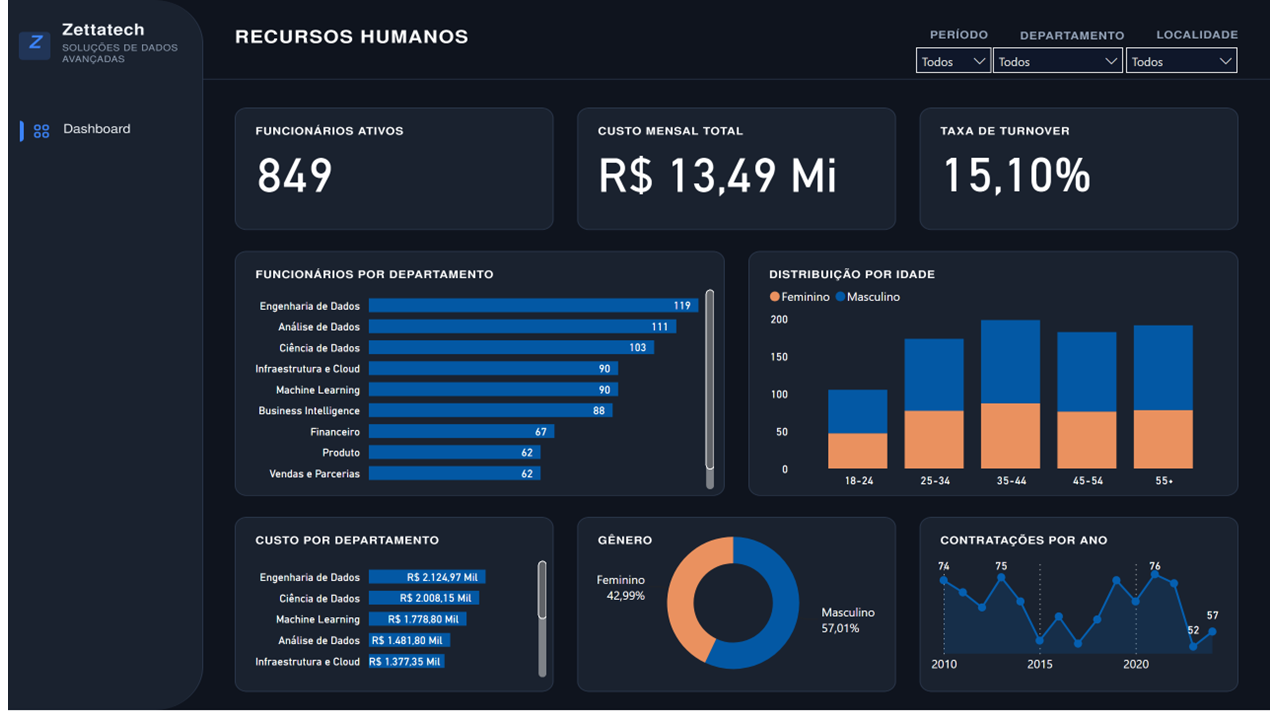

What the dashboard file says about the page in this screenshot:
{"tool":"powerbi","page":{"name":"Main","canvas":[1280,720],"ordinal":0},"visuals":[{"type":"slicer","fields":{"Values":["funcionarios.Data de Contratação.Variation.Hierarquia de datas.Ano"]},"box":[915.9,42.9,86.5,37.1],"z":0},{"type":"slicer","fields":{"Values":["funcionarios.Departamento"]},"box":[994.3,42.9,142.1,37.1],"z":1000},{"type":"slicer","fields":{"Values":["filiais.Cidade"]},"box":[1129.2,43.1,123.1,36.9],"z":2000},{"type":"cardVisual","fields":{"Data":["funcionarios.Funcionários Ativos"]},"box":[222.9,117.1,328.6,117.1],"z":3000},{"type":"cardVisual","fields":{"Data":["funcionarios.Custo Mensal Total"]},"box":[568.6,117.1,332.9,117.1],"z":4000},{"type":"cardVisual","fields":{"Data":["funcionarios.Taxa de Turnover (%)"]},"box":[915.7,108.6,324.3,132.9],"z":5000},{"type":"barChart","fields":{"Category":["funcionarios.Departamento"],"Y":["funcionarios.Funcionários Ativos"]},"box":[244.3,281.4,477.1,220],"z":6000},{"type":"columnChart","fields":{"Category":["funcionarios.Faixa de Idade"],"Y":["funcionarios.Funcionários Ativos"],"Series":["funcionarios.Gênero"]},"box":[767.1,281.4,472.9,220],"z":7000},{"type":"clusteredBarChart","fields":{"Category":["funcionarios.Departamento"],"Y":["funcionarios.Custo Mensal Total"]},"box":[244.3,555.7,307.1,135.7],"z":8000},{"type":"donutChart","fields":{"Category":["funcionarios.Gênero"],"Y":["funcionarios.Funcionários Ativos"]},"box":[587.1,517.1,297.1,188.6],"z":9000},{"type":"lineChart","fields":{"Category":["funcionarios.Data de Contratação.Variation.Hierarquia de datas.Ano"],"Y":["funcionarios.Qtd Funcionários"]},"box":[931.4,555.7,308.6,135.7],"z":10000}]}

Visuals, with their boxes in screenshot pixels (x1, y1, x2, y2):
slicer - funcionarios.Data de Contratação.Variation.Hierarquia de datas.Ano: 958:91:1040:126
slicer - funcionarios.Departamento: 1032:91:1168:126
slicer - filiais.Cidade: 1161:91:1278:126
cardVisual - funcionarios.Funcionários Ativos: 299:161:611:273
cardVisual - funcionarios.Custo Mensal Total: 628:161:944:273
cardVisual - funcionarios.Taxa de Turnover (%): 958:153:1266:280
barChart - funcionarios.Departamento x funcionarios.Funcionários Ativos: 319:318:773:527
columnChart - funcionarios.Faixa de Idade x funcionarios.Funcionários Ativos: 816:318:1266:527
clusteredBarChart - funcionarios.Departamento x funcionarios.Custo Mensal Total: 319:579:611:708
donutChart - funcionarios.Gênero x funcionarios.Funcionários Ativos: 645:542:928:719
lineChart - funcionarios.Data de Contratação.Variation.Hierarquia de datas.Ano x funcionarios.Qtd Funcionários: 973:579:1266:708
